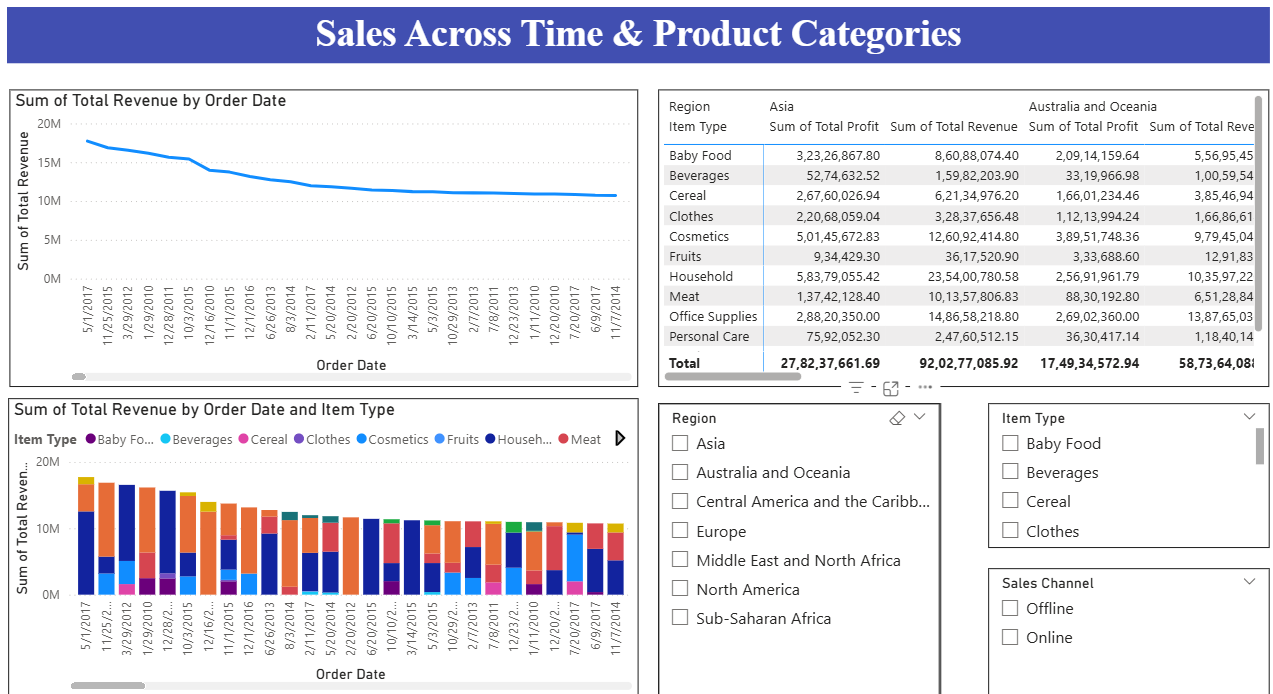

The dashboard page shown, as its layout file describes it:
{"tool":"powerbi","page":{"name":"Page 2","canvas":[1280,720],"ordinal":1},"visuals":[{"type":"textbox","box":[9.6,15.1,1257,56.3],"z":0},{"type":"lineChart","fields":{"Category":["5000 Sales Records.Order Date"],"Y":["Sum(5000 Sales Records.Total Revenue)"]},"box":[12.3,97.4,625.7,296.4],"z":1000},{"type":"columnChart","fields":{"Category":["5000 Sales Records.Order Date"],"Series":["5000 Sales Records.Item Type"],"Y":["Sum(5000 Sales Records.Total Revenue)"]},"box":[11,404.8,627.1,296.4],"z":2000},{"type":"pivotTable","fields":{"Rows":["5000 Sales Records.Item Type"],"Columns":["5000 Sales Records.Region"],"Values":["Sum(5000 Sales Records.Total Profit)","Sum(5000 Sales Records.Total Revenue)"]},"box":[658.7,97.4,607.9,296.4],"z":3000},{"type":"slicer","fields":{"Values":["5000 Sales Records.Region"]},"box":[658.7,408.9,279.9,292.3],"z":4000},{"type":"slicer","fields":{"Values":["5000 Sales Records.Sales Channel"]},"box":[986.6,573.6,279.9,127.6],"z":5000},{"type":"slicer","fields":{"Values":["5000 Sales Records.Item Type"]},"box":[986.6,408.9,279.9,144.1],"z":6000}]}

Visuals, with their boxes in screenshot pixels (x1, y1, x2, y2):
textbox: 19 5 1256 60
lineChart - 5000 Sales Records.Order Date x Sum(5000 Sales Records.Total Revenue): 22 86 638 378
columnChart - 5000 Sales Records.Order Date x 5000 Sales Records.Item Type: 21 388 638 680
pivotTable - 5000 Sales Records.Item Type x 5000 Sales Records.Region: 658 86 1256 378
slicer - 5000 Sales Records.Region: 658 392 933 680
slicer - 5000 Sales Records.Sales Channel: 981 554 1256 680
slicer - 5000 Sales Records.Item Type: 981 392 1256 534
